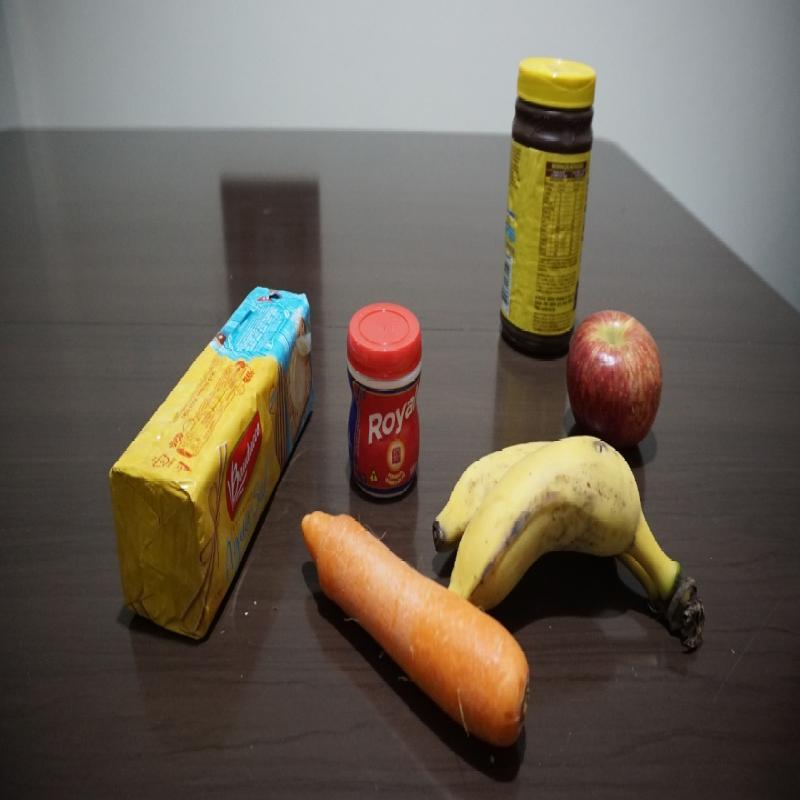Apple: (566, 305, 667, 426)
Banana: (438, 425, 732, 634)
Carrot: (307, 503, 433, 690)
Chocolate Powder: (498, 49, 596, 294)
Cracker: (112, 280, 305, 636)
Yeast: (347, 296, 422, 501)
